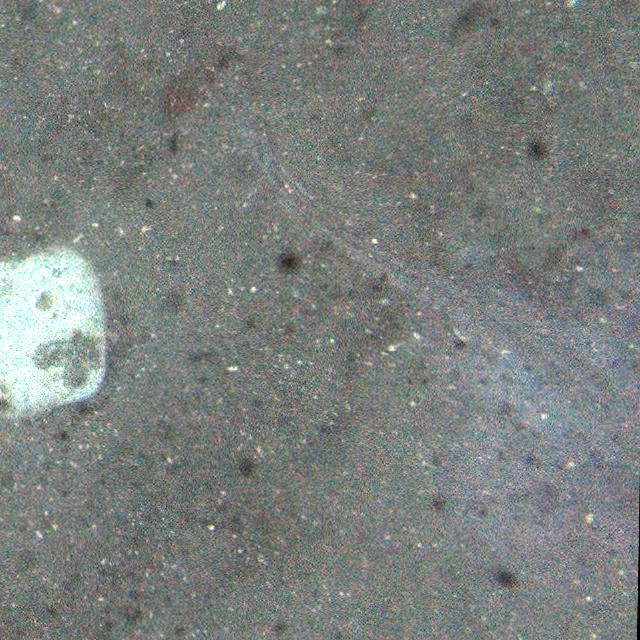skate: (241, 116, 640, 600)
